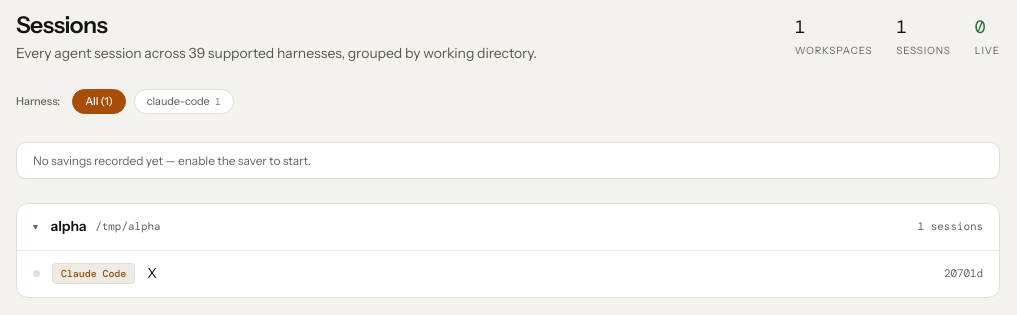
Test: WorkspaceSessionList › reveals model and archived tags on hover
Hover over the text "X" at [152, 273], box [147, 264, 157, 282]
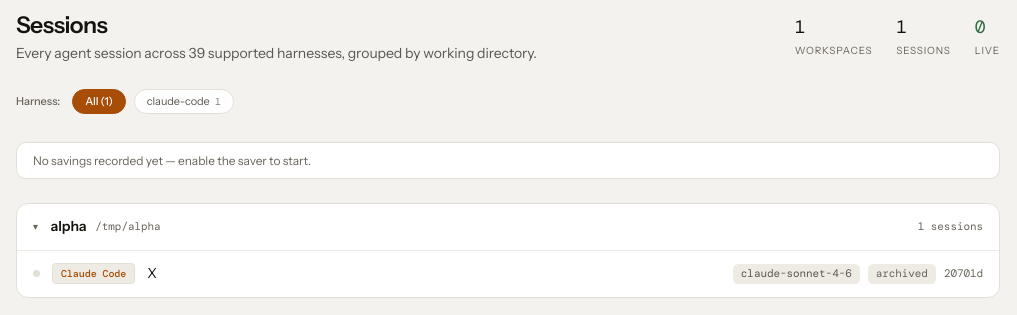
Expected: the text "claude-sonnet-4-6" is shown, [733, 264, 860, 284]
Expected: the text "archived" is shown, [868, 264, 936, 284]
